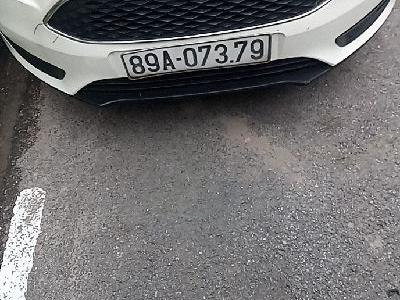car: (121, 35, 277, 80)
